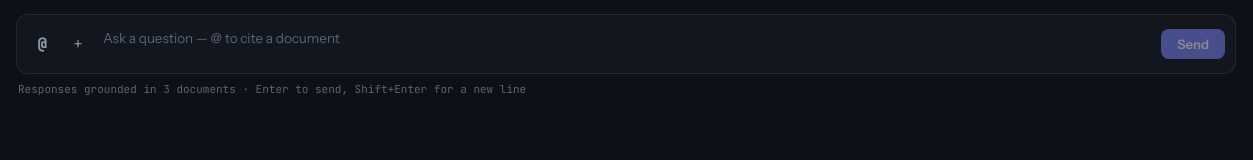
Test: FR-CMP-04 — the menu contents › says so rather than showing an empty popover with no documents
Type "@" into the text box at (627, 44), box [99,23,1155,65]
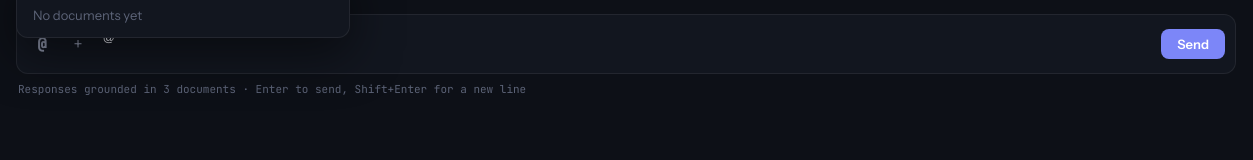
Expected: the text "No documents yet" is shown, [33,7,142,23]
